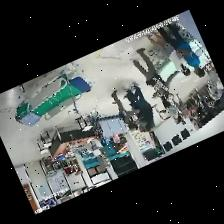person: (133, 47, 180, 101), (158, 23, 205, 76), (147, 31, 190, 75), (125, 81, 154, 130), (112, 90, 139, 131), (161, 94, 179, 123), (173, 94, 193, 120), (200, 87, 214, 108), (189, 99, 205, 117), (124, 93, 137, 108), (192, 109, 200, 120)
